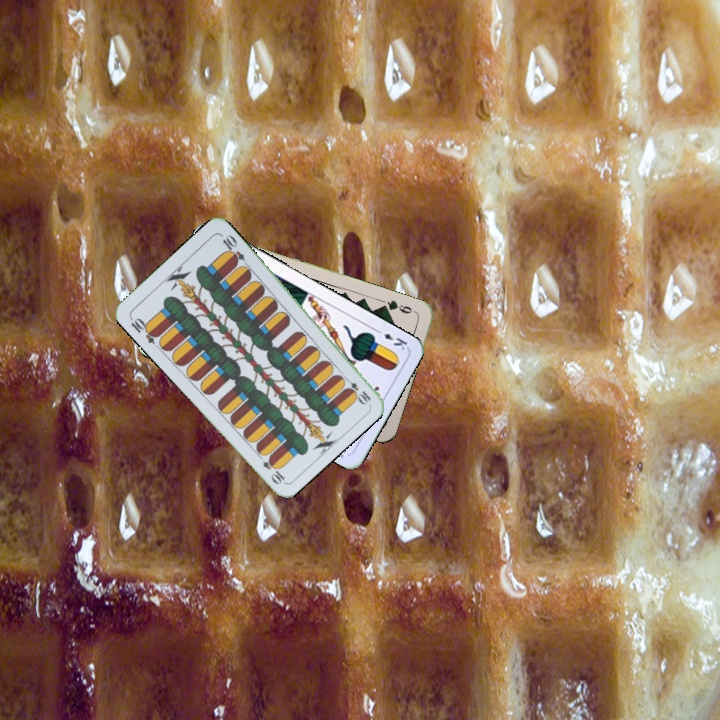E10: (339, 373, 373, 407), (126, 313, 161, 346)
EK: (371, 325, 410, 353)
G9: (378, 296, 419, 316)
